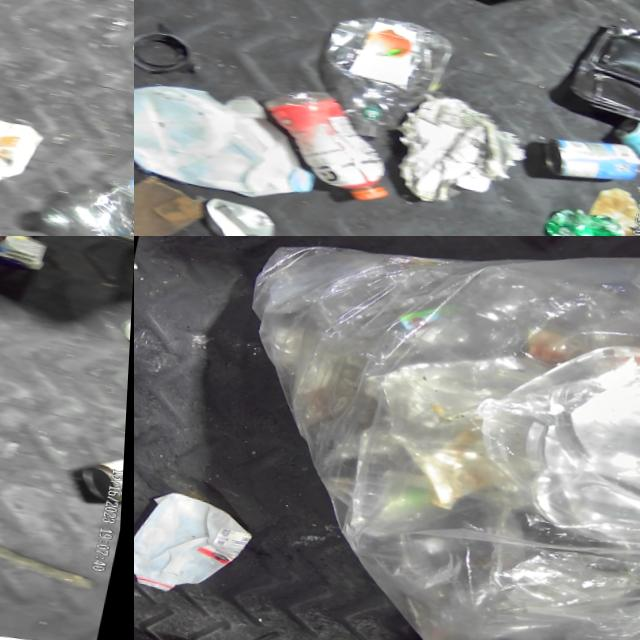can: (539, 126, 640, 189), (196, 194, 288, 236), (542, 200, 633, 236), (76, 444, 127, 502), (606, 112, 640, 168)
milk_jug: (134, 70, 335, 208), (134, 484, 261, 604), (0, 90, 49, 189)
plastic_bottle: (311, 7, 459, 148), (40, 159, 134, 236)
